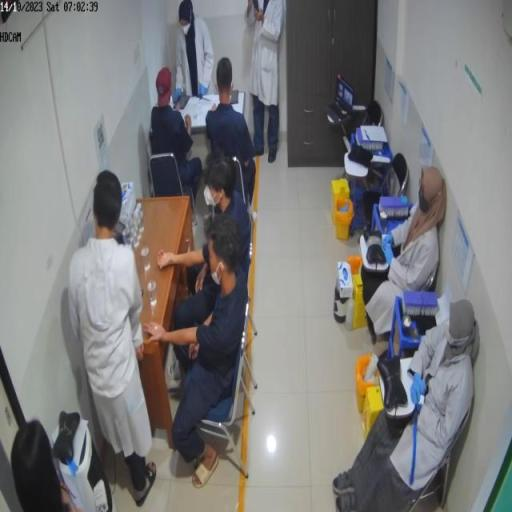person: (70, 170, 159, 508), (335, 301, 480, 508), (144, 217, 248, 491), (159, 148, 253, 381), (362, 167, 448, 349), (207, 60, 258, 227), (153, 68, 203, 227), (245, 1, 284, 164), (176, 3, 215, 108)
